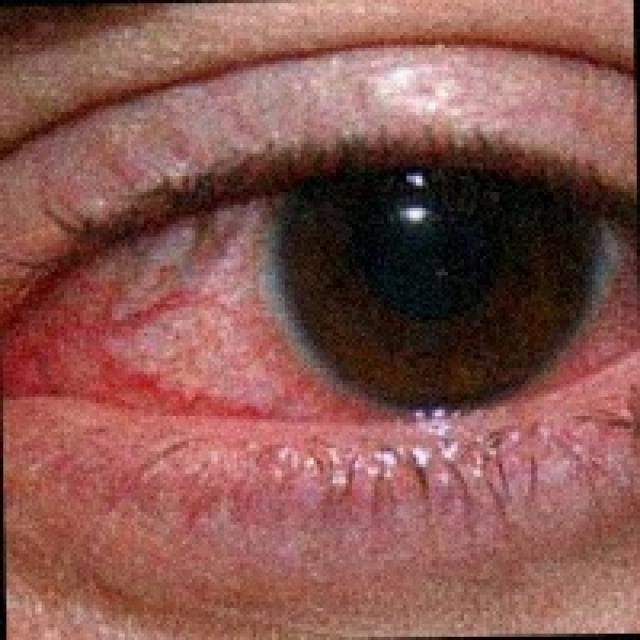Keratitis: (1, 130, 578, 472)
